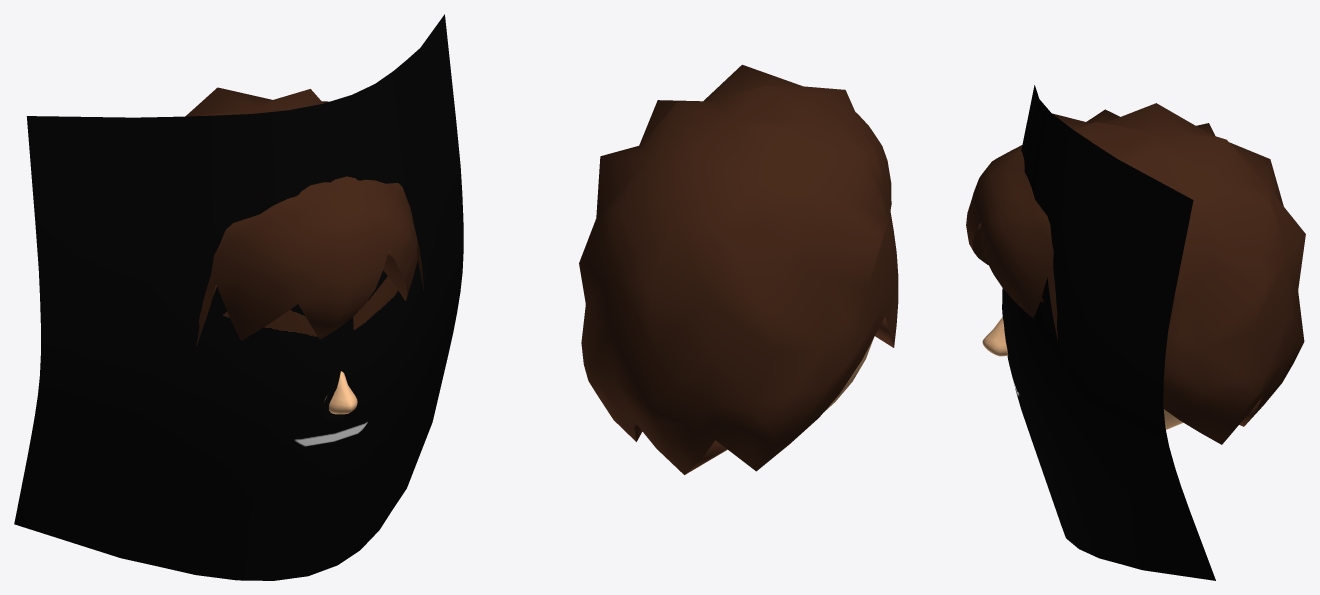
The model's file is henry-mii.glb.
3 views of the same model, side by side, from view 1: azimuth 30°, elevation 25°; view 2: azimuth 150°, elevation 25°; view 3: azimuth 270°, elevation 25° (orthographic). The views are drawn at different scales.
Parts seen in each view (by area): view 1: XluMask, OpaHair, OpaNose; view 2: OpaHair; view 3: XluMask, OpaHair, OpaNose.
Boxes of the visible parts, x1,y1,x2,y2 form: XluMask: [14, 14, 463, 580]; OpaHair: [186, 87, 423, 346]; OpaNose: [324, 371, 357, 414]; OpaHair: [579, 64, 898, 474]; XluMask: [1002, 85, 1215, 580]; OpaHair: [966, 103, 1305, 444]; OpaNose: [982, 317, 1008, 356].
Size of the model in its own units: 91.85 by 100 by 70.09.
6 materials, 2 textured.
